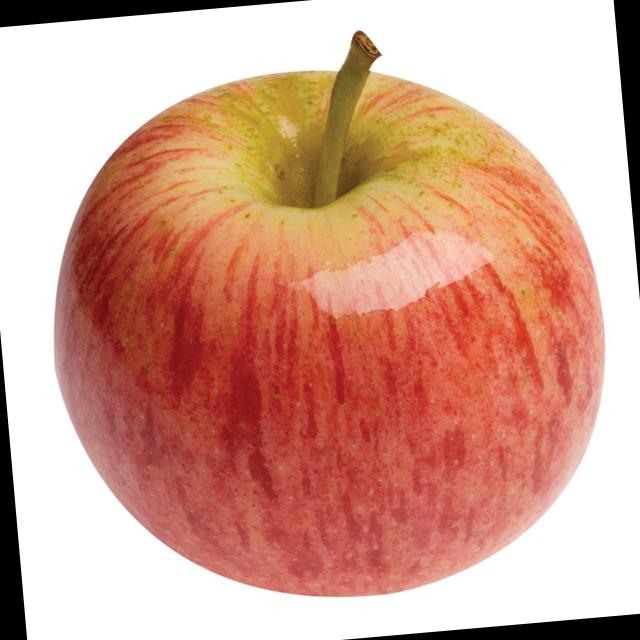apple: (1, 18, 626, 630)
